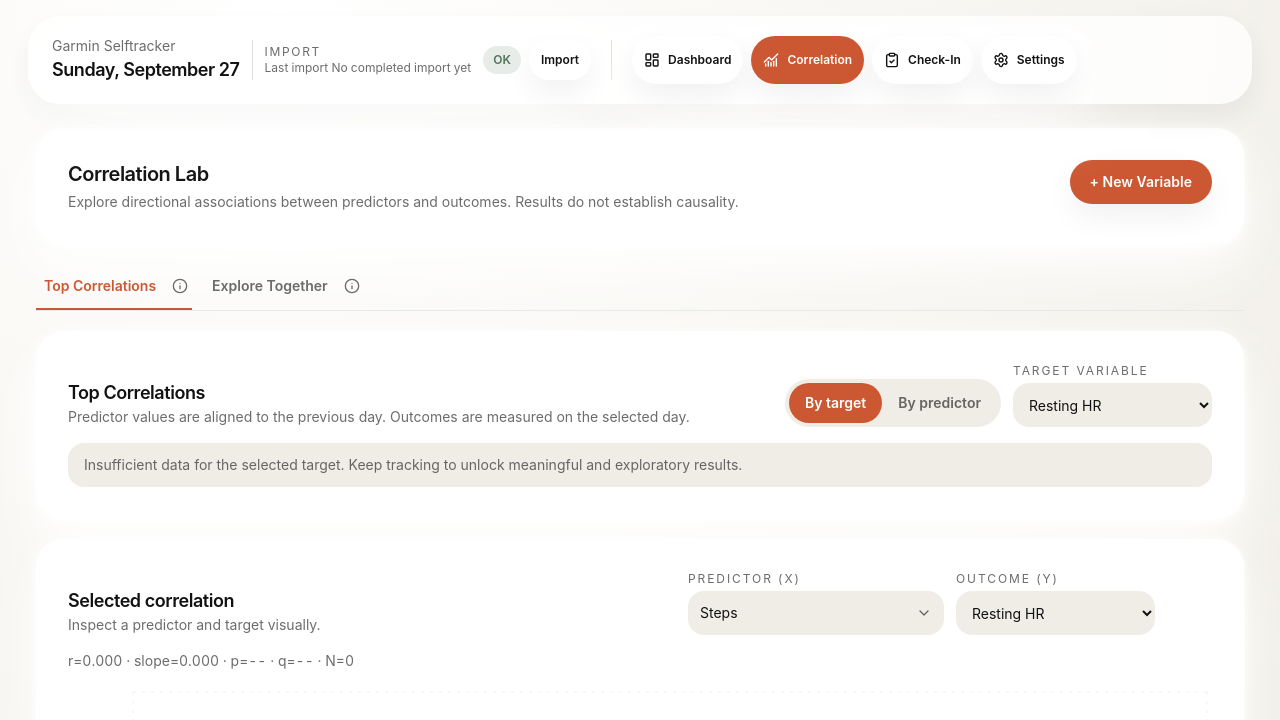
Test: App persistence workflows › explains all Training Effect predictors in the predictor selector
The width and height of the screenshot is (1280, 720).
Click the button "Steps".
click(802, 613)  # box top-left (688, 591), bottom-right (916, 635)
(page scrolled)
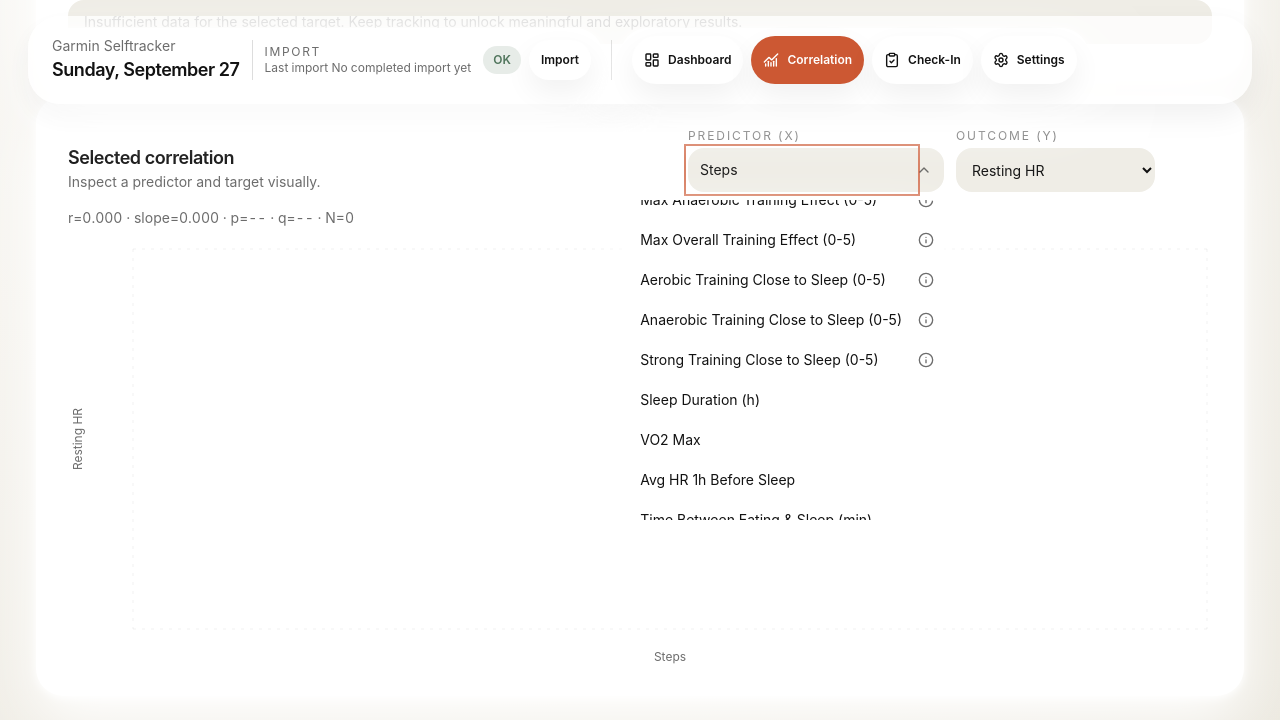
Hover over the button named "About Strong Training Close to Sleep".
mouse_move(926, 360)  # box top-left (914, 348), bottom-right (938, 372)
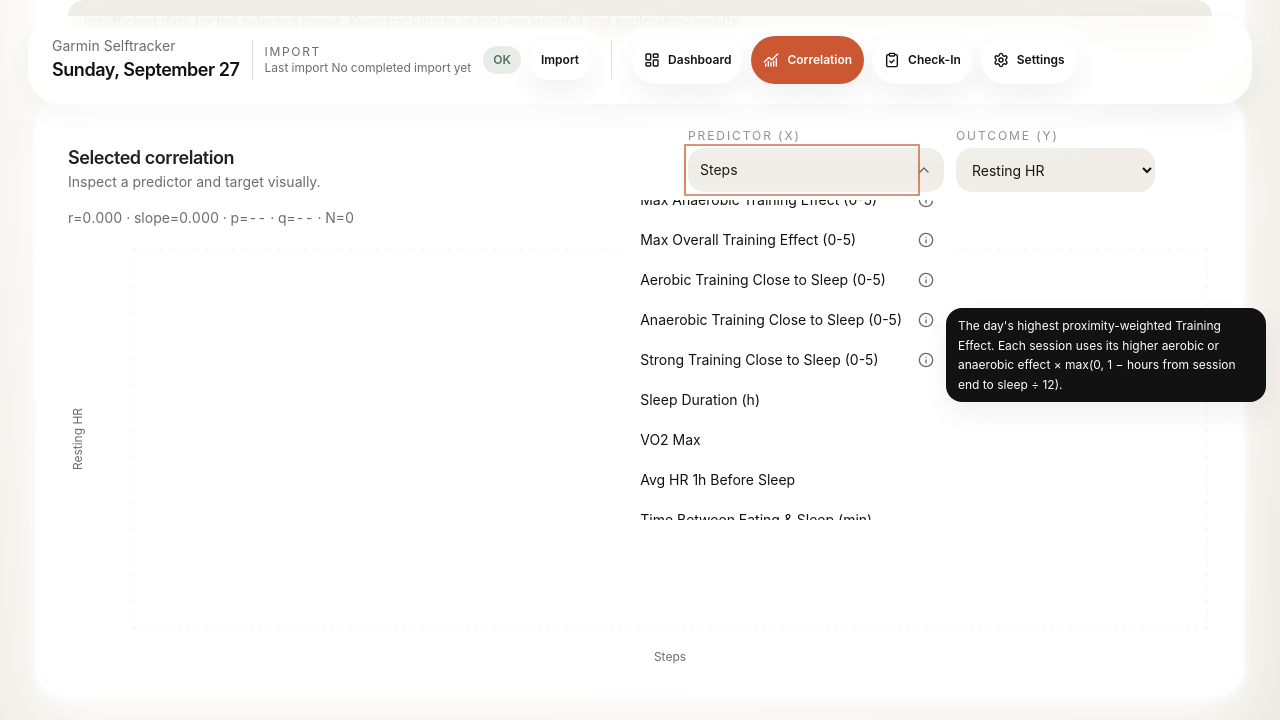
expect the tooltip shows "higher aerobic or anaerobic effect": met, box top-left (958, 318), bottom-right (1236, 392)
Click the option "Max Overall Training Effect (0-5)".
click(771, 240)  # box top-left (628, 220), bottom-right (914, 260)
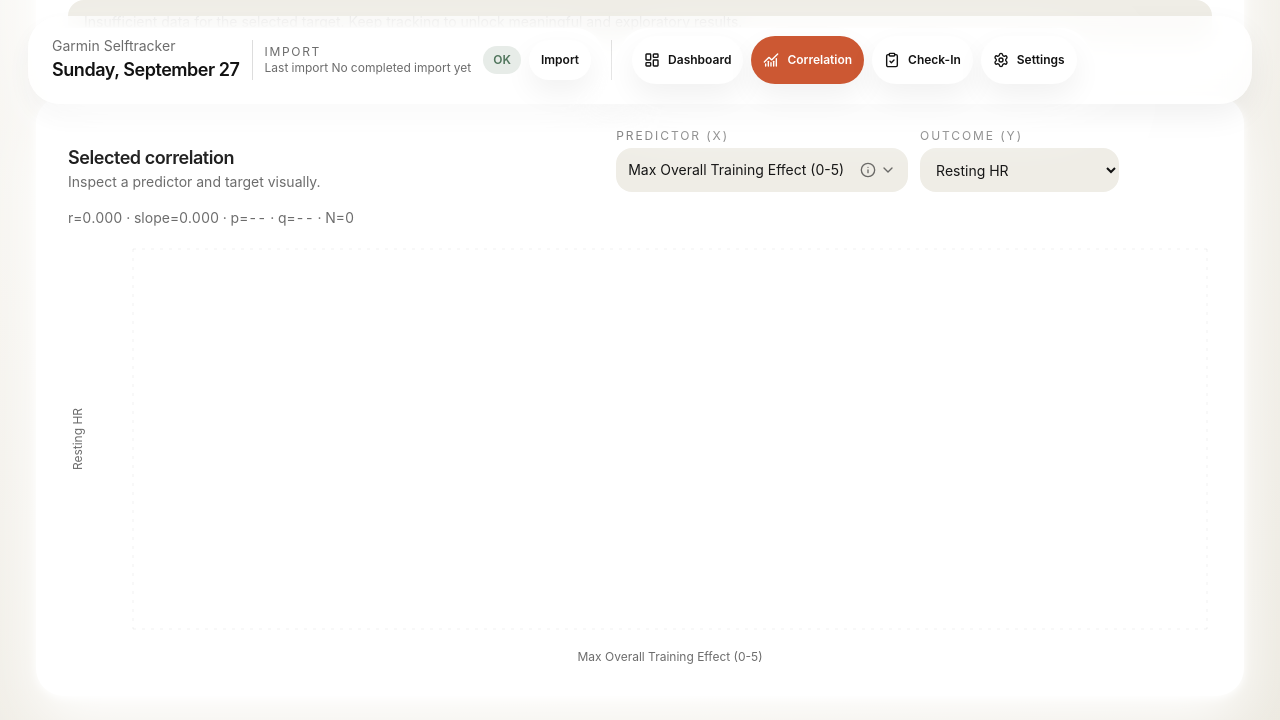
expect the button named "About Max Overall Training Effect" is shown: met, box top-left (856, 158), bottom-right (880, 182)
